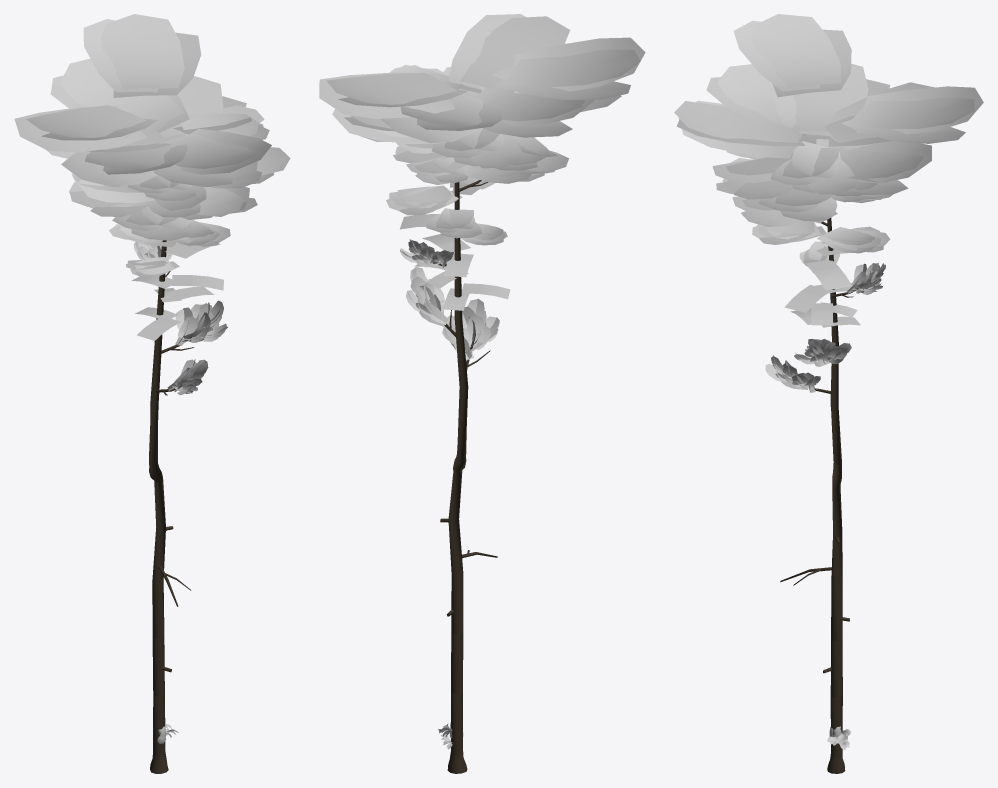
File: Pine_L.A.X2.fbx
3 views of the same model, side by side, from view 1: azimuth 30°, elevation 25°; view 2: azimuth 150°, elevation 25°; view 3: azimuth 270°, elevation 25° (orthographic). The views are drawn at different scales.
Parts seen in each view (by area): view 1: Pine_L_A_X2; view 2: Pine_L_A_X2; view 3: Pine_L_A_X2.
Part boxes in pixels (x1,y1,x2,y2): Pine_L_A_X2: [14, 14, 290, 773]; Pine_L_A_X2: [319, 14, 645, 773]; Pine_L_A_X2: [674, 14, 983, 773].
Bounding box in the file's own units: 855 × 2264 × 927.
